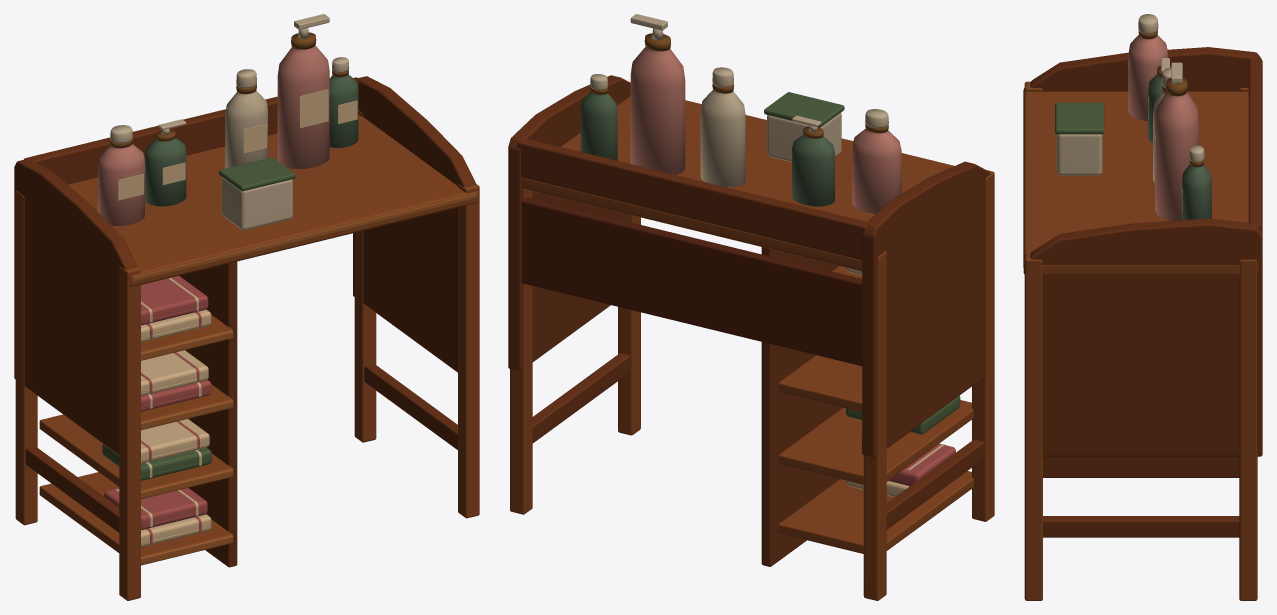
Rendered from SM_BunkerLaundryRack.fbx.
3 views of the same model, side by side, from view 1: azimuth 30°, elevation 25°; view 2: azimuth 150°, elevation 25°; view 3: azimuth 270°, elevation 25° (orthographic). The views are drawn at different scales.
Parts seen in each view (by area): view 1: SM_BunkerLaundryRack; view 2: SM_BunkerLaundryRack; view 3: SM_BunkerLaundryRack.
Part boxes in pixels (bbox=[...]): SM_BunkerLaundryRack: bbox=[14, 14, 479, 600]; SM_BunkerLaundryRack: bbox=[508, 14, 994, 600]; SM_BunkerLaundryRack: bbox=[1023, 14, 1262, 600].
Bounding box in the file's own units: 148 × 83.7 × 187.
